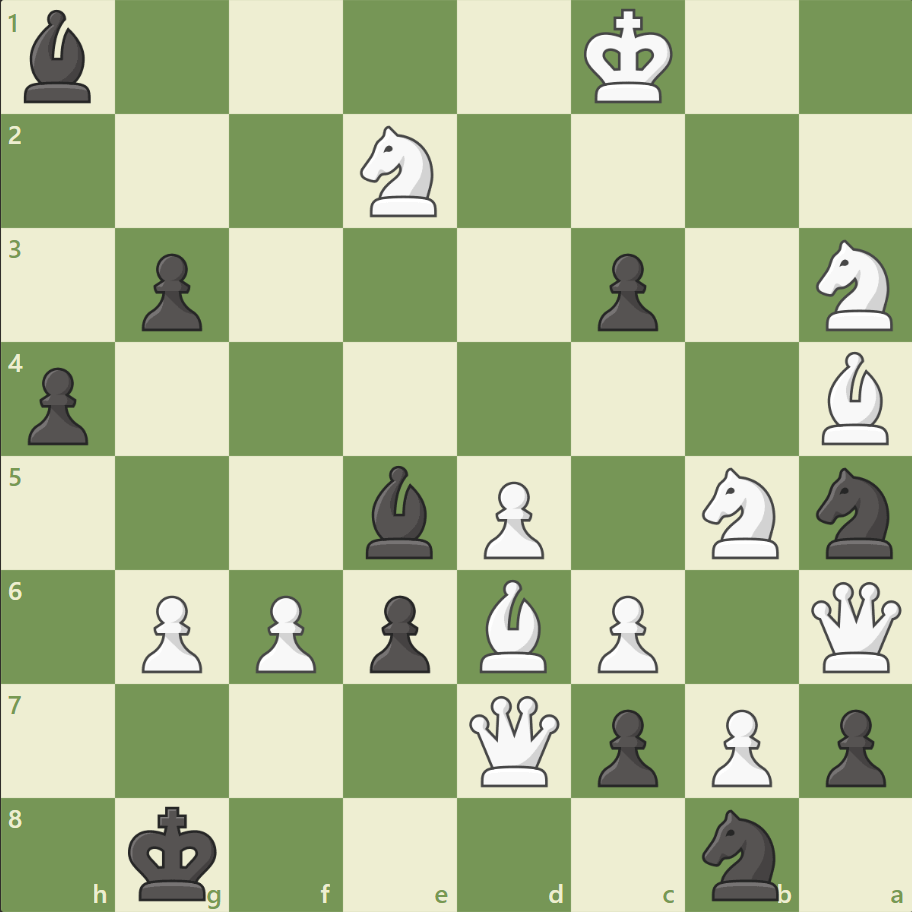B: (471, 574, 555, 676), (812, 347, 896, 449)
K: (579, 4, 679, 112)
N: (351, 121, 449, 223), (692, 461, 789, 564), (806, 234, 903, 337)
P: (701, 700, 776, 791), (247, 586, 322, 677), (133, 586, 208, 677), (474, 473, 549, 564), (588, 586, 662, 677)
Q: (805, 576, 904, 676), (464, 690, 563, 789)
b: (358, 460, 442, 563), (17, 6, 101, 109)
k: (124, 798, 224, 906)
n: (806, 461, 903, 564), (692, 802, 789, 904)
p: (20, 359, 95, 450), (133, 246, 208, 337), (815, 700, 889, 791), (588, 700, 662, 791), (361, 586, 435, 677), (588, 246, 662, 337)
